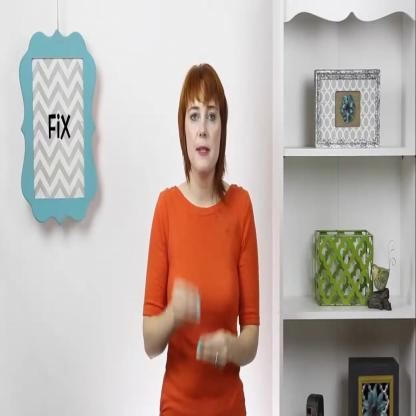Fix: (162, 239, 232, 391)
